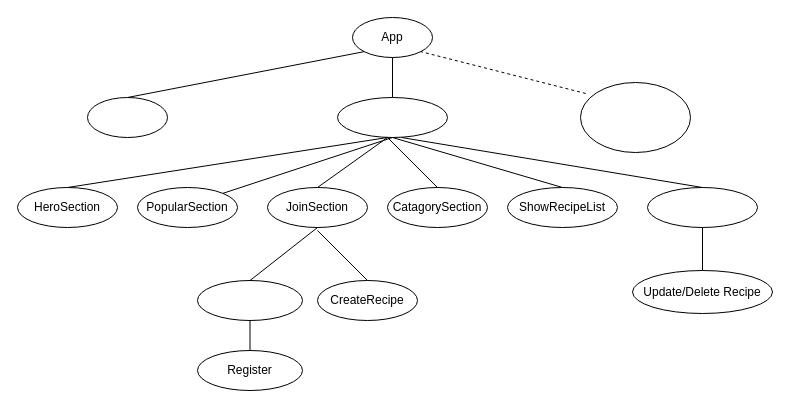
Some shapes in this 790 by 416 pixel diagram are drawn without their labels. Here are the shapes that lost their labels. From the top down, the centre of each, then its label:
At pixel 127 117: "Header".
At pixel 392 117: "Main".
At pixel 635 117: "api-helper (AUTH)".
At pixel 702 207: "ShowOneRecipe".
At pixel 249 300: "Login".
